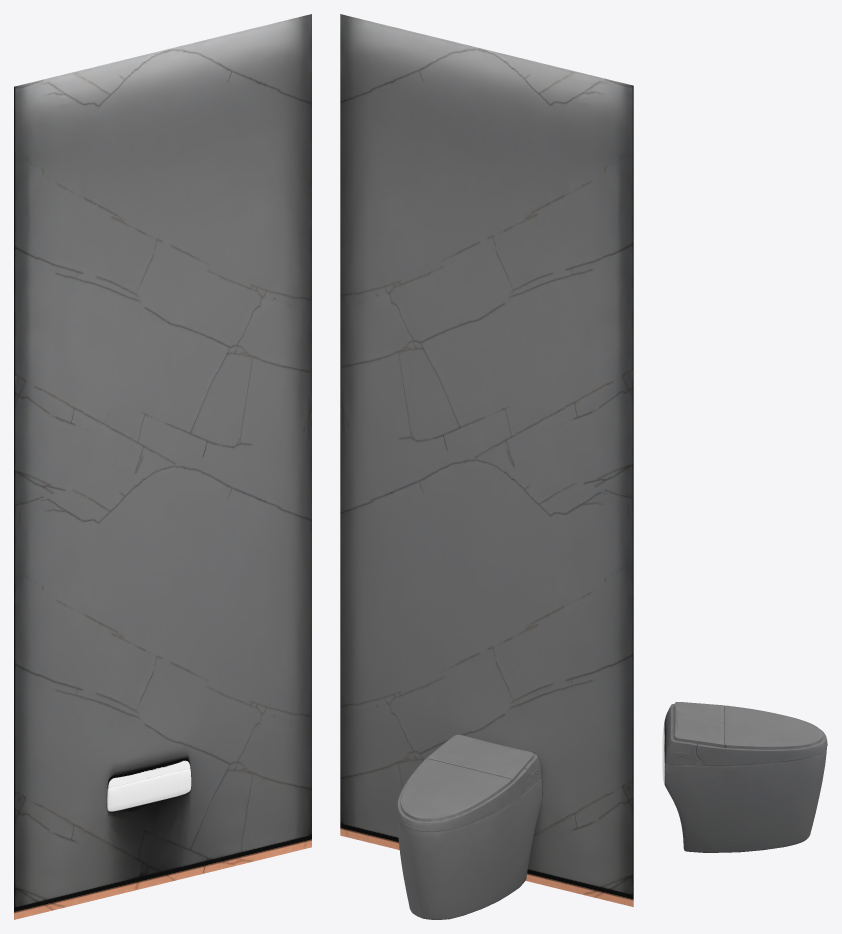
The model's file is Automate2_1.glb.
3 views of the same model, side by side, from view 1: azimuth 30°, elevation 25°; view 2: azimuth 150°, elevation 25°; view 3: azimuth 270°, elevation 25° (orthographic). The views are drawn at different scales.
Visible parts, largest first — view 1: Automate2_1; view 2: Automate2_1; view 3: Automate2_1.
Part boxes in pixels (box(x1,y1,x2,y2)): Automate2_1: box(14, 14, 311, 919); Automate2_1: box(340, 14, 633, 919); Automate2_1: box(662, 702, 827, 852).
Size of the model in its own units: 3.68 by 9.85 by 1.91.
Materials: 1 (1 with a texture image).
